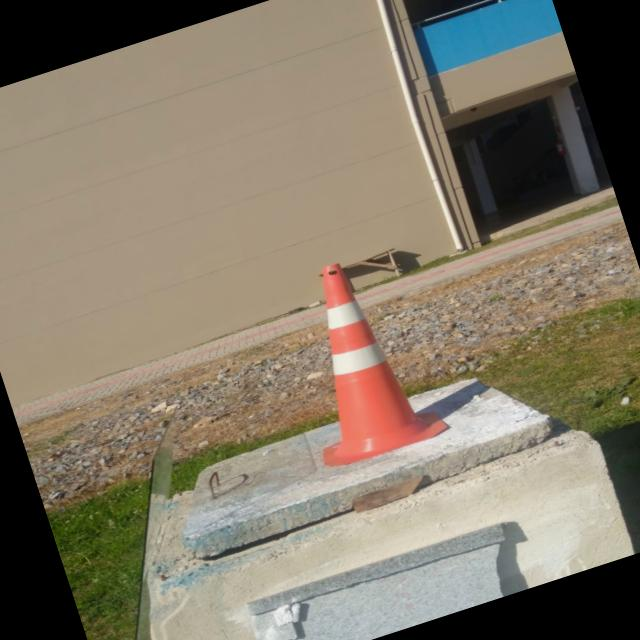cone: (263, 241, 450, 474)
